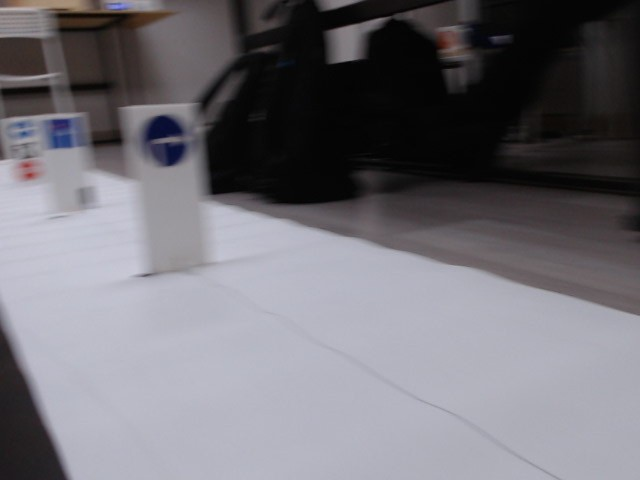Right: (139, 113, 191, 168)
priority_movement: (43, 119, 81, 152)
